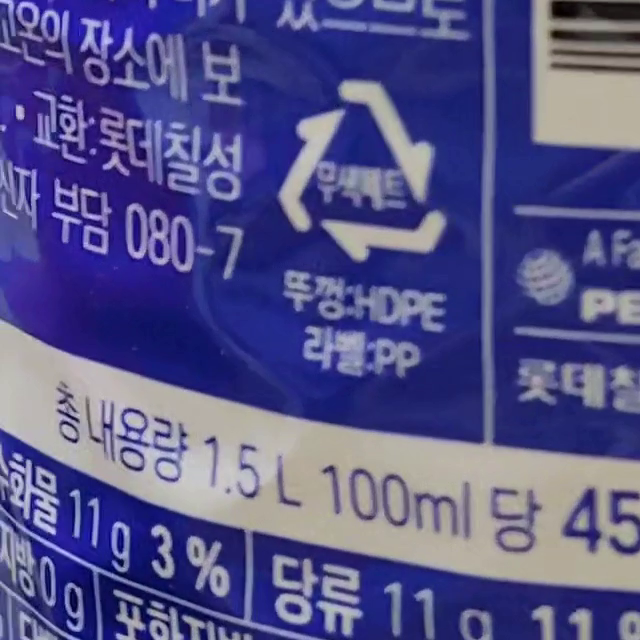ColorlessPet: (279, 81, 446, 262)
